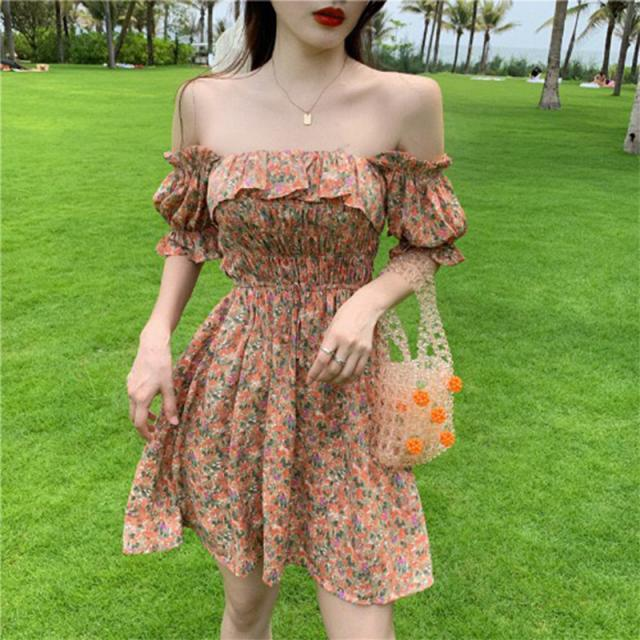clothes: (126, 62, 467, 600)
